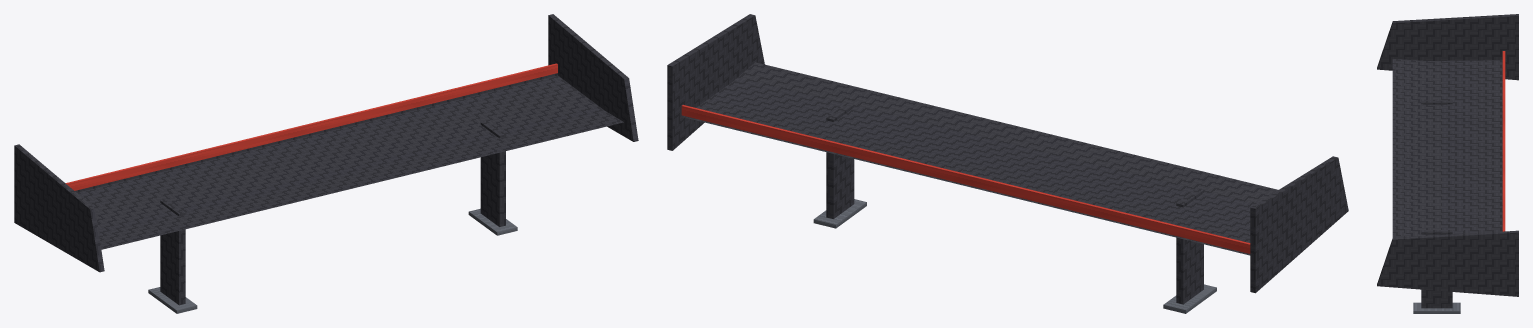
File: aerofolio_n4.glb
3 views of the same model, side by side, from view 1: azimuth 30°, elevation 25°; view 2: azimuth 150°, elevation 25°; view 3: azimuth 270°, elevation 25° (orthographic). The views are drawn at different scales.
Visible parts, largest first — view 1: aerofolio_n4; view 2: aerofolio_n4; view 3: aerofolio_n4.
Boxes of the visible parts, box(x1,y1,x2,y2) form: aerofolio_n4: box(14, 14, 638, 313); aerofolio_n4: box(667, 14, 1348, 313); aerofolio_n4: box(1377, 14, 1518, 313).
Bounding box in the file's own units: 1.31 × 0.34 × 0.36.
2 materials, 2 textured.
